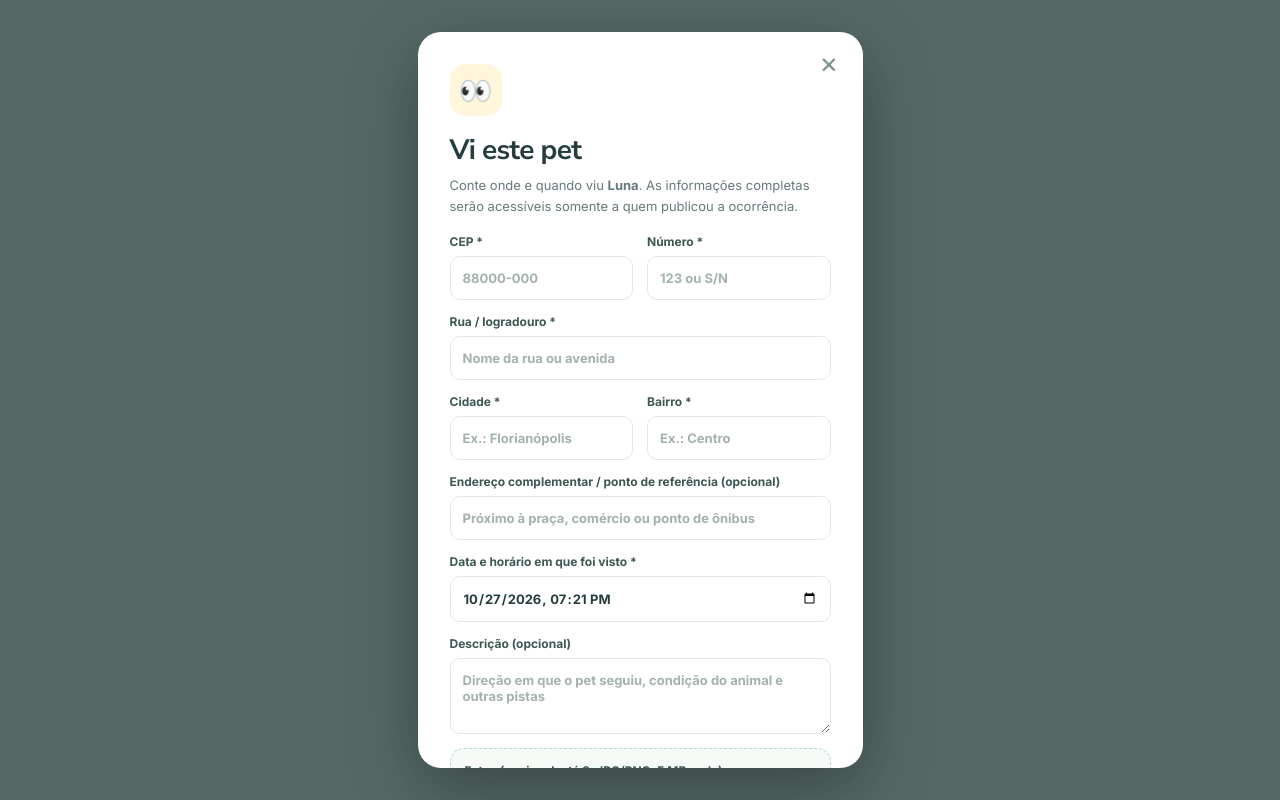
Test case: Autopreenchimento ViaCEP em avistamentos › preenche rua, cidade e bairro ao informar oito dígitos
This screenshot has width=1280, height=800.
Type "88000000" into the field with placeholder "88000-000" at (541, 278), box [450,256,633,300]
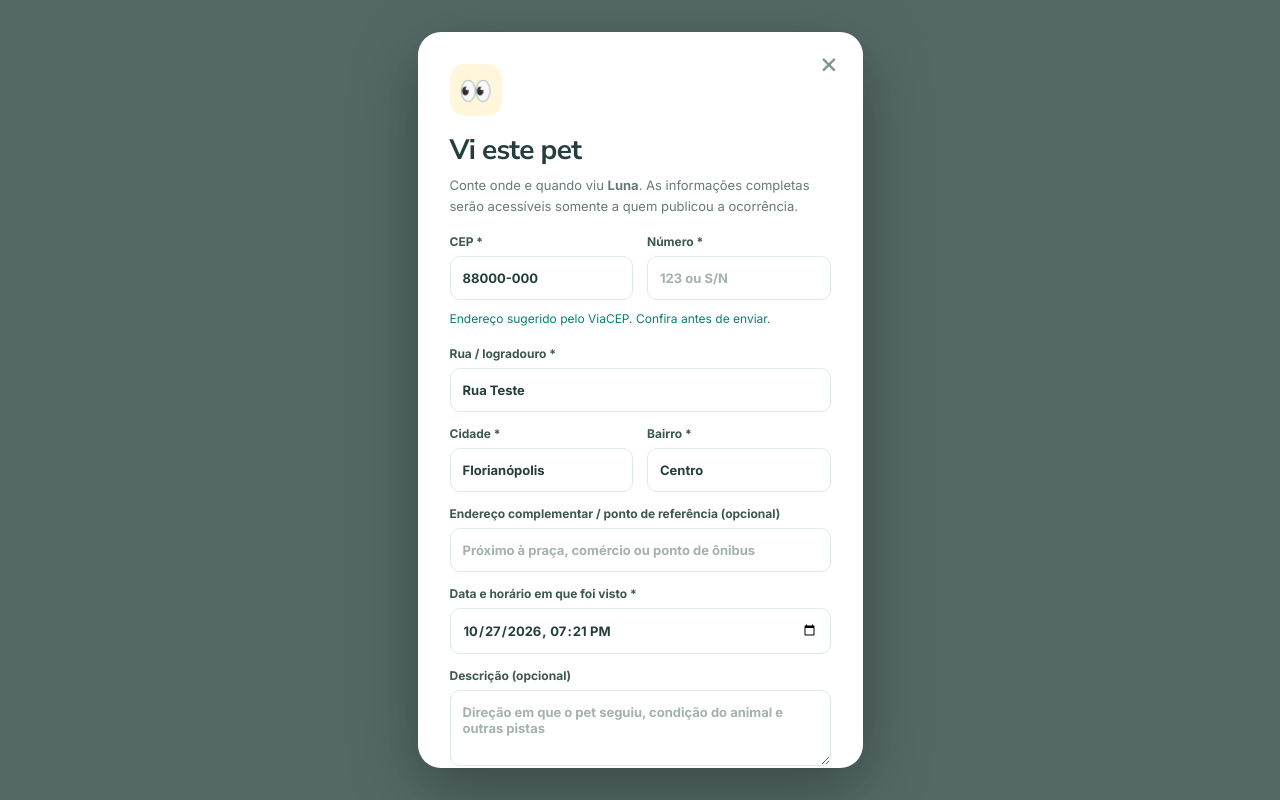
Expected: the field with placeholder "Nome da rua ou avenida" holds "Rua Teste", [450,368,830,412]
Expected: the field with placeholder "Ex.: Florianópolis" holds "Florianópolis", [450,448,633,492]
Expected: the field with placeholder "Ex.: Centro" holds "Centro", [647,448,830,492]
